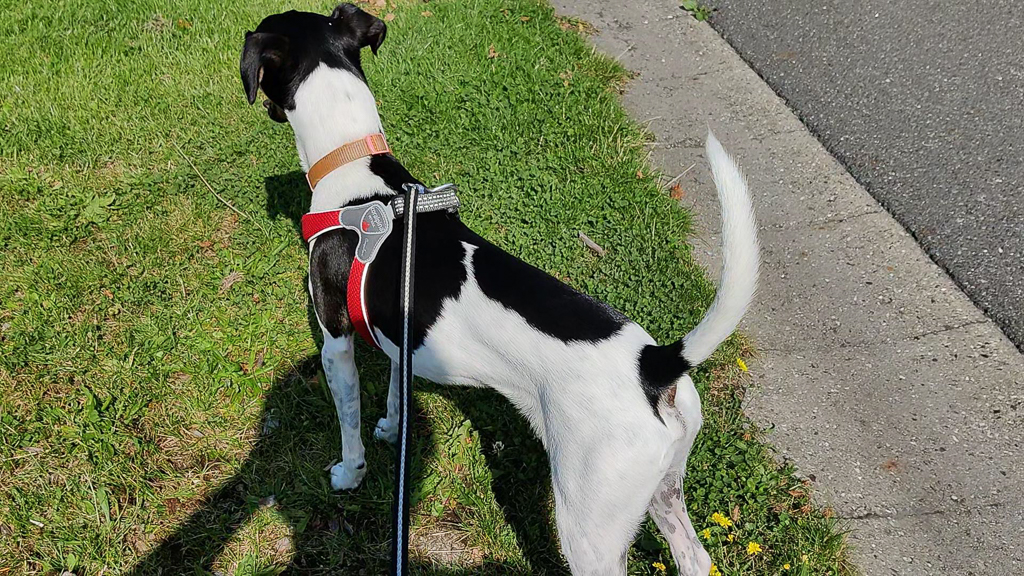Dog: (223, 0, 768, 576)
